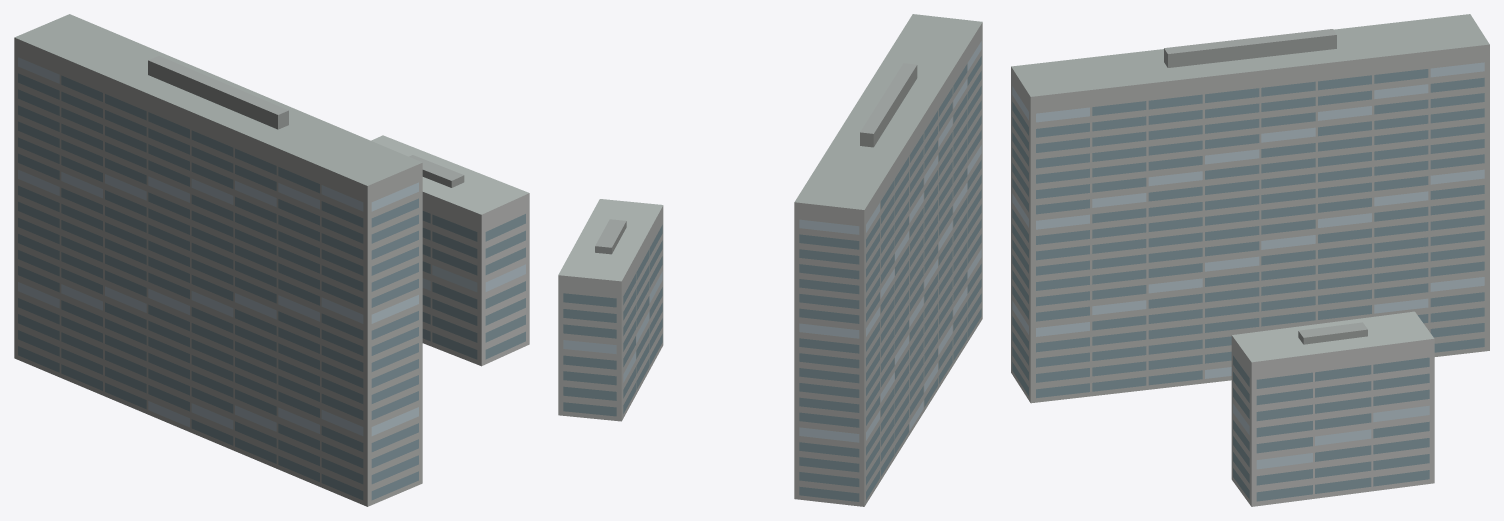
The model's file is apt-a13980604.glb.
3 views of the same model, side by side, from view 1: azimuth 30°, elevation 25°; view 2: azimuth 150°, elevation 25°; view 3: azimuth 270°, elevation 25° (orthographic). The views are drawn at different scales.
Parts seen in each view (by area): view 1: apt-a13980604; view 2: apt-a13980604; view 3: apt-a13980604.
Part boxes in pixels (box(x1,y1,x2,y2)): apt-a13980604: box(14, 14, 529, 506); apt-a13980604: box(558, 14, 982, 506); apt-a13980604: box(1011, 14, 1489, 506).
Bounding box in the file's own units: 68.72 × 55 × 74.49.
